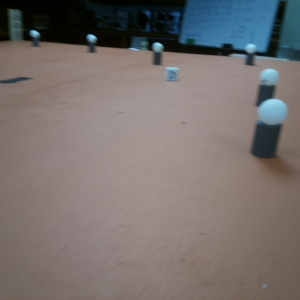obstacle: (248, 99, 287, 159), (257, 68, 275, 111), (246, 43, 259, 65), (86, 34, 98, 55), (152, 42, 162, 66), (31, 29, 42, 47)
